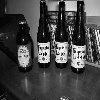beer: (14, 20, 36, 69)
